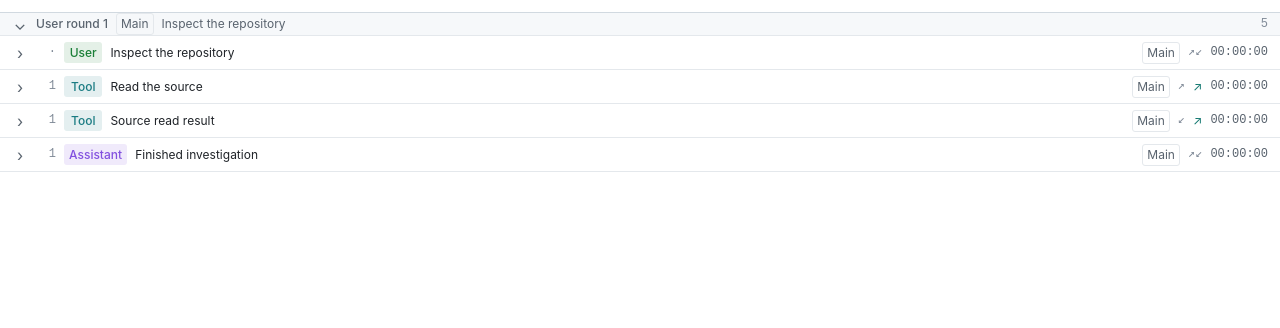
Scenario: DSH-style task process ledger › hides filtered technical records and empty rounds without changing native step and tool identities
Click the 2nd button "›" at (20, 86), box 12,70 -> 28,103
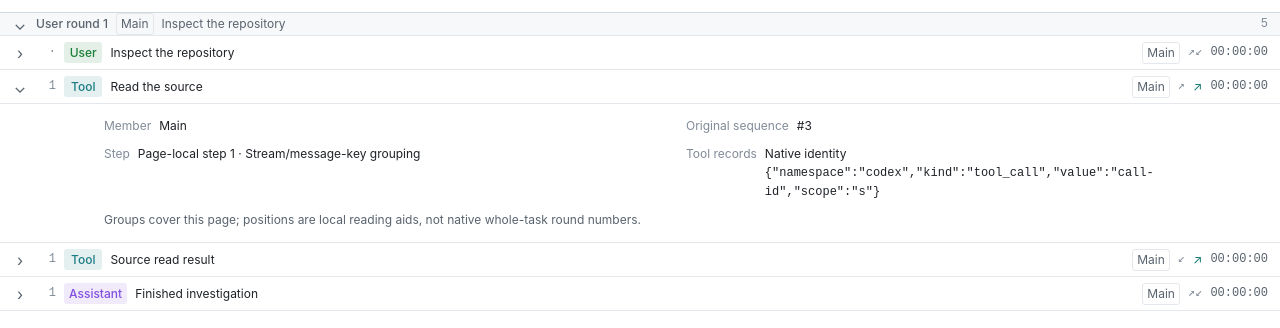
Check: the text "call-id" is shown, box 765,166 -> 1154,199
Check: the text "Page-local step 1" is shown, box 138,146 -> 420,161
